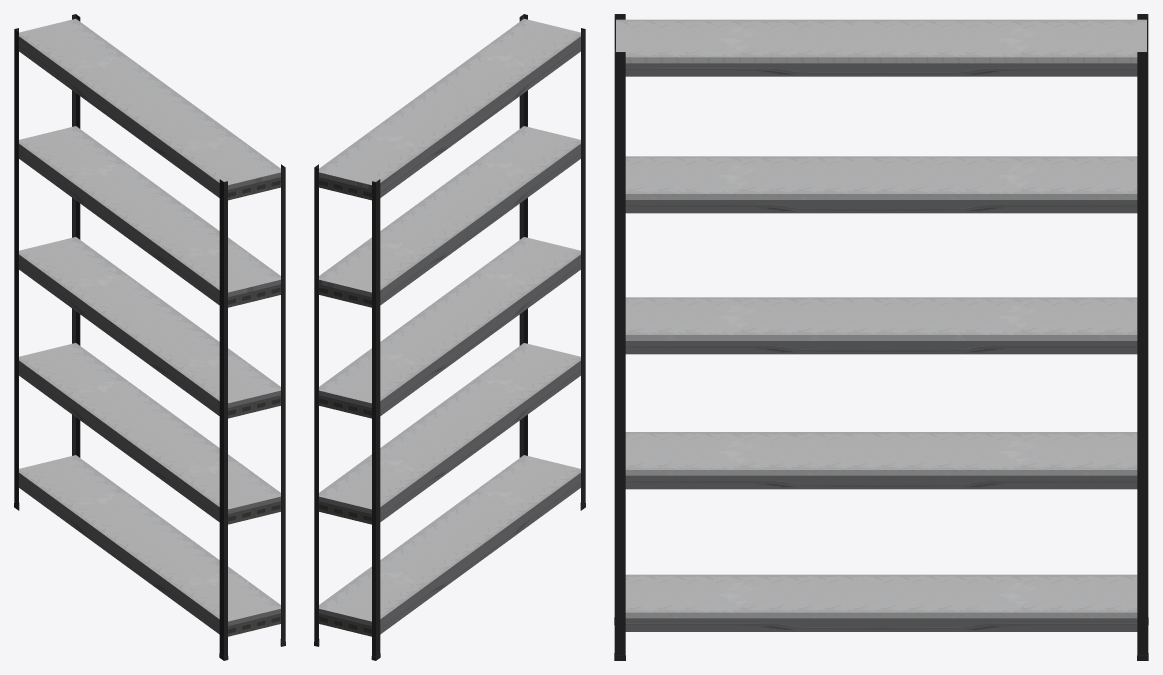
File: mdlShelf.fbx
3 renders of one model, left to right at view 1: azimuth 30°, elevation 25°; view 2: azimuth 150°, elevation 25°; view 3: azimuth 270°, elevation 25°, orthographic. The views are drawn at different scales.
Parts seen in each view (by area): view 1: industrial_shelving_02; view 2: industrial_shelving_02; view 3: industrial_shelving_02.
Boxes of the visible parts, <box> form: industrial_shelving_02: <box>14,14,285,660</box>; industrial_shelving_02: <box>314,14,585,660</box>; industrial_shelving_02: <box>614,14,1148,660</box>.
Size of the model in its own units: 4.05 by 29.89 by 23.78.
